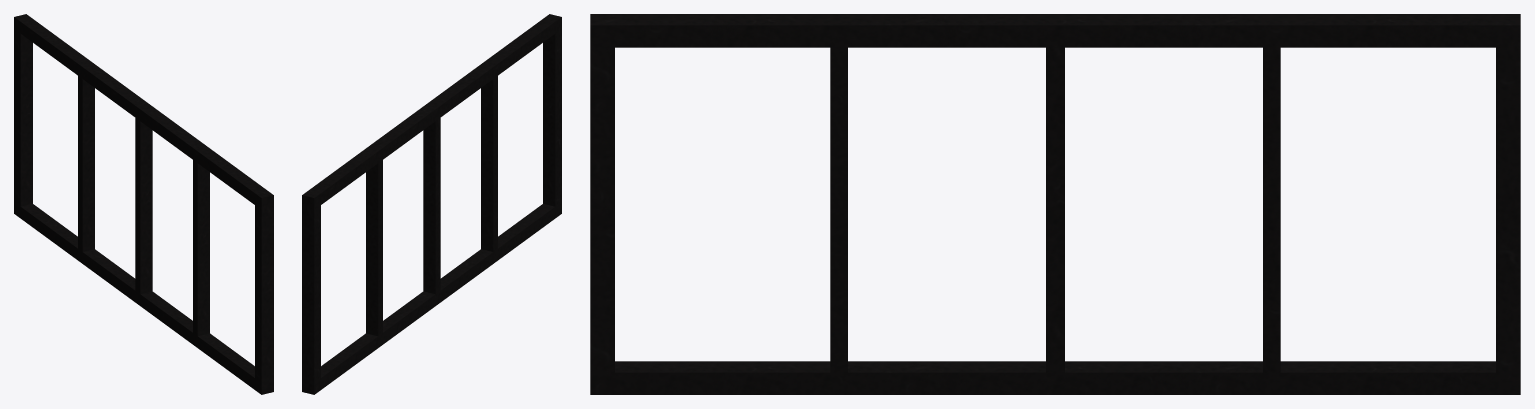
File: Window.fbx
3 views of the same model, side by side, from view 1: azimuth 30°, elevation 25°; view 2: azimuth 150°, elevation 25°; view 3: azimuth 270°, elevation 25° (orthographic). The views are drawn at different scales.
Visible parts, largest first — view 1: Window; view 2: Window; view 3: Window.
Part boxes in pixels (left/top/right/bottom): Window: left=14, top=14, right=273, bottom=394; Window: left=302, top=14, right=561, bottom=394; Window: left=590, top=14, right=1520, bottom=394.
Size of the model in its own units: 8.27 by 127 by 290.
Materials: 1 (1 with a texture image).
